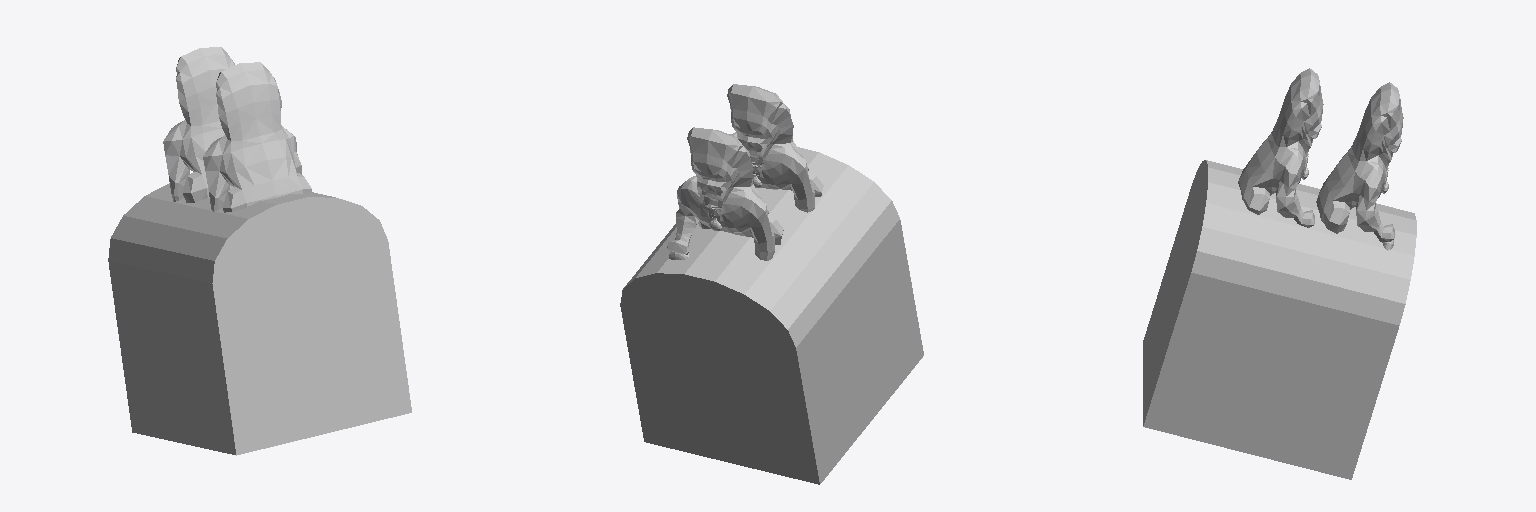
Rendered from main_ridge_LION_Clone__9995276_0.obj.
3 views of the same model, side by side, from view 1: azimuth 30°, elevation 25°; view 2: azimuth 150°, elevation 25°; view 3: azimuth 270°, elevation 25° (orthographic).
Visible parts, largest first — view 1: Cylinder01_46, lion__1__4, lion_4; view 2: Cylinder01_46, lion_4, lion__1__4; view 3: Cylinder01_46, lion_4, lion__1__4.
Part boxes in pixels (x1,y1,x2,y2): Cylinder01_46: (108, 183, 411, 455); lion__1__4: (203, 62, 311, 212); lion_4: (163, 47, 234, 202); Cylinder01_46: (620, 147, 923, 484); lion_4: (667, 127, 783, 260); lion__1__4: (727, 84, 823, 212); Cylinder01_46: (1143, 160, 1416, 479); lion_4: (1316, 82, 1403, 250); lion__1__4: (1238, 68, 1323, 227).
Bounding box in the file's own units: 1.31 × 2.59 × 1.77.